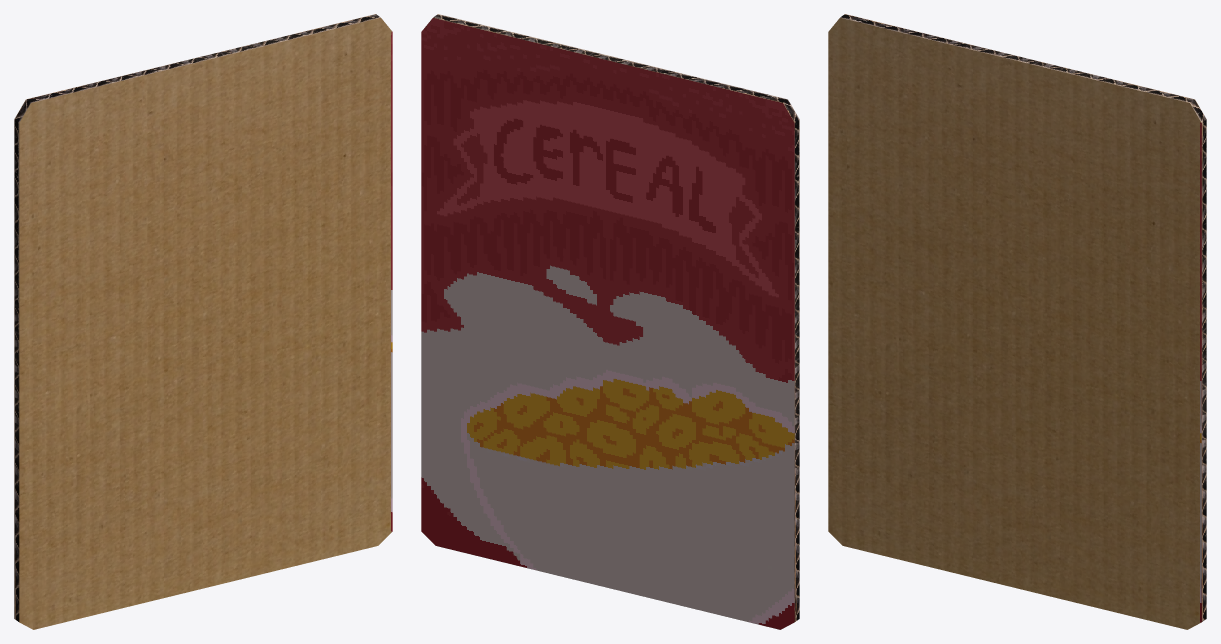
Rendered from CEREAL.glb.
3 views of the same model, side by side, from view 1: azimuth 30°, elevation 25°; view 2: azimuth 150°, elevation 25°; view 3: azimuth 330°, elevation 25° (orthographic).
Parts seen in each view (by area): view 1: CEREAL; view 2: CEREAL; view 3: CEREAL.
Boxes of the visible parts, <box> form: CEREAL: <box>14,14,392,629</box>; CEREAL: <box>421,14,799,629</box>; CEREAL: <box>828,14,1206,629</box>.
Size of the model in its own units: 3.86 by 5.22 by 0.09.
Materials: 1 (1 with a texture image).
